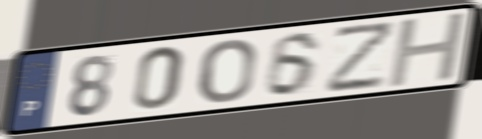0: (130, 43, 187, 114)
6: (263, 31, 324, 98)
8: (66, 53, 116, 119)
H: (385, 9, 470, 91)
O: (196, 37, 258, 106)
Z: (325, 18, 400, 95)
